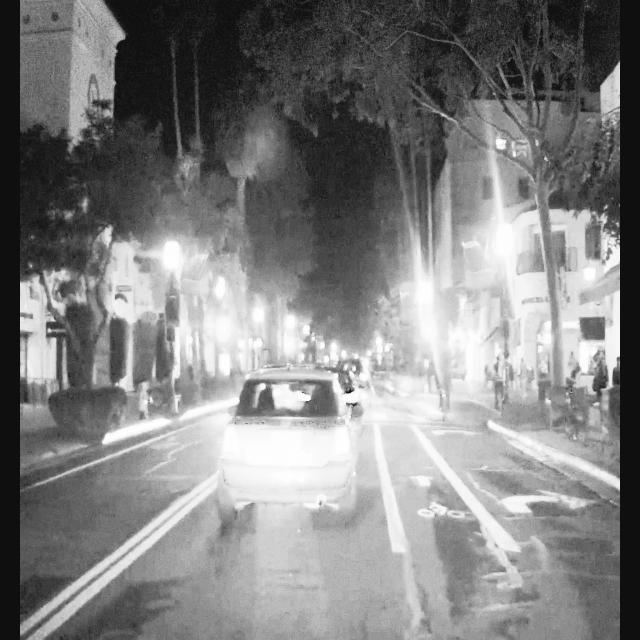Car: (217, 362, 359, 526)
Light: (424, 314, 434, 342), (217, 317, 227, 343)
Tree: (22, 98, 128, 425), (502, 0, 578, 432)
